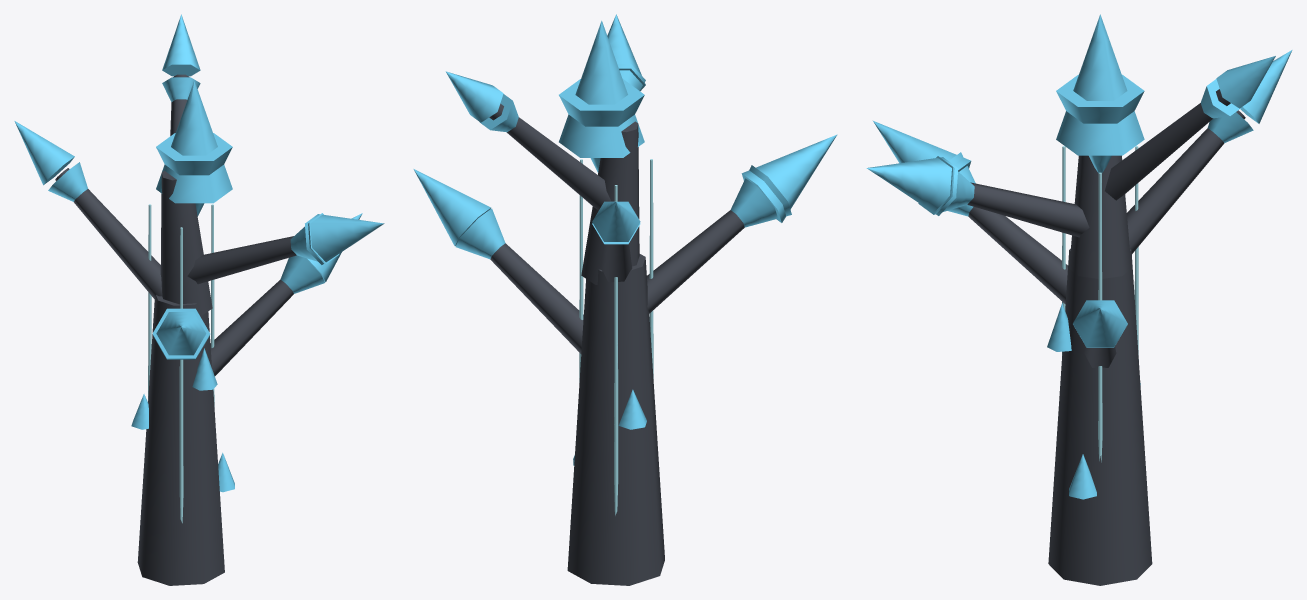
File: crystal_metal_tree_001.obj
The picture shows the model from 3 angles, left to right: view 1: azimuth 30°, elevation 25°; view 2: azimuth 150°, elevation 25°; view 3: azimuth 270°, elevation 25°; orthographic projection. The views are drawn at different scales.
Parts seen in each view (by area): view 1: Trunk, Mesh, CrystalUp, TrunkTop, CrystalDown, CrownUp, CrownDown, LightChannel2, Shard3, LightChannel3; view 2: Trunk, Mesh, CrystalUp, CrownUp, CrystalDown, TrunkTop, CrownDown, LightChannel3, LightChannel2, Shard2, LightChannel1; view 3: Trunk, Mesh, CrystalUp, CrownUp, TrunkTop, CrystalDown, CrownDown, LightChannel1, Shard1, Shard3.
Part boxes in pixels (bbox=[...]): Trunk: bbox=[137, 295, 224, 585]; Mesh: bbox=[55, 74, 296, 375]; CrystalUp: bbox=[14, 14, 384, 359]; TrunkTop: bbox=[160, 171, 212, 316]; CrystalDown: bbox=[48, 77, 339, 358]; CrownUp: bbox=[156, 80, 232, 203]; CrownDown: bbox=[156, 133, 232, 216]; LightChannel2: bbox=[179, 227, 183, 523]; Shard3: bbox=[192, 348, 217, 390]; LightChannel3: bbox=[148, 204, 151, 400]; Trunk: bbox=[567, 254, 664, 585]; Mesh: bbox=[489, 103, 744, 353]; CrystalUp: bbox=[413, 14, 837, 245]; CrownUp: bbox=[559, 20, 644, 157]; CrystalDown: bbox=[455, 64, 791, 259]; TrunkTop: bbox=[581, 121, 639, 284]; CrownDown: bbox=[559, 79, 644, 172]; LightChannel3: bbox=[614, 185, 618, 515]; LightChannel2: bbox=[649, 159, 653, 378]; Shard2: bbox=[618, 389, 646, 429]; LightChannel1: bbox=[579, 159, 583, 382]; Trunk: bbox=[1048, 248, 1152, 585]; Mesh: bbox=[967, 89, 1245, 367]; CrystalUp: bbox=[866, 50, 1292, 347]; CrownUp: bbox=[1056, 14, 1144, 155]; TrunkTop: bbox=[1069, 155, 1131, 278]; CrystalDown: bbox=[918, 79, 1253, 347]; CrownDown: bbox=[1056, 74, 1144, 172]; LightChannel1: bbox=[1098, 172, 1102, 462]; Shard1: bbox=[1069, 454, 1096, 499]; Shard3: bbox=[1047, 303, 1071, 351].
Bounding box in the file's own units: 2.15 × 3.55 × 2.46.
